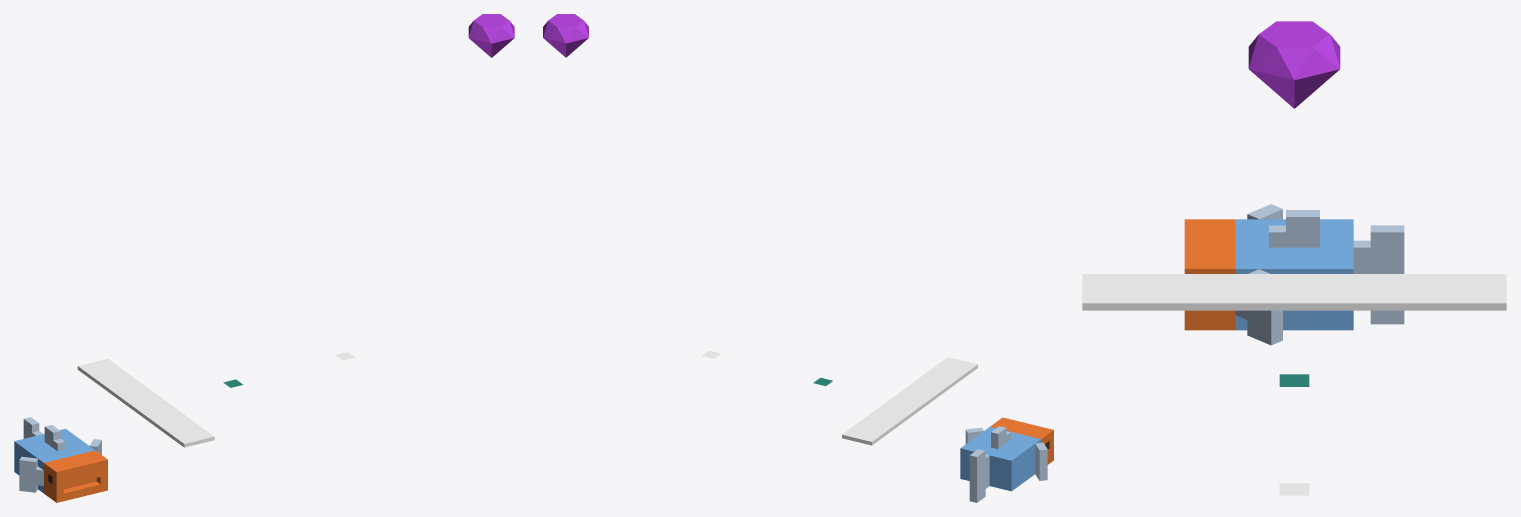
3 views of the same model, side by side, from view 1: azimuth 30°, elevation 25°; view 2: azimuth 150°, elevation 25°; view 3: azimuth 270°, elevation 25° (orthographic). The views are drawn at different scales.
Parts seen in each view (by area): view 1: fish001, flow001, diamond001; view 2: fish001, flow001, diamond001; view 3: fish001, flow001, diamond001.
Boxes of the visible parts, <box> form: fish001: <box>14,417,107,502</box>; flow001: <box>77,358,214,447</box>; diamond001: <box>468,14,514,57</box>; fish001: <box>960,417,1053,502</box>; flow001: <box>842,357,977,445</box>; diamond001: <box>543,14,588,57</box>; fish001: <box>1184,204,1404,345</box>; flow001: <box>1082,274,1506,310</box>; diamond001: <box>1248,21,1340,108</box>.
Size of what is drawn, in the model's own units: 1160 by 789 by 427.
